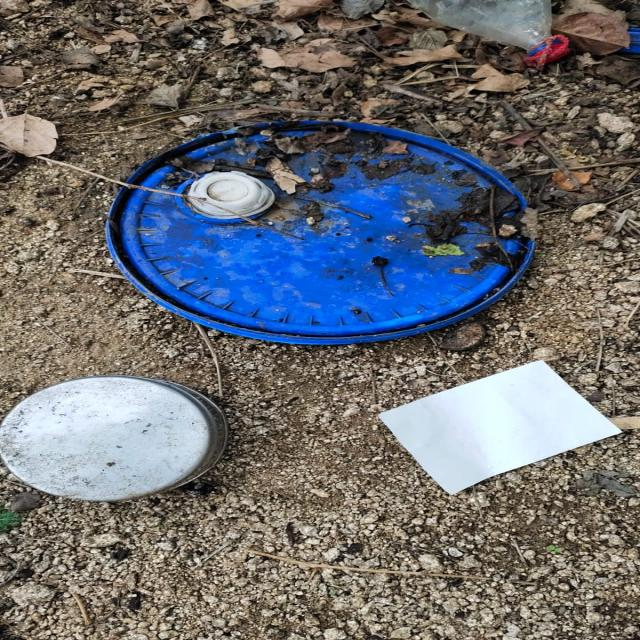metal: (3, 364, 270, 498)
paper: (343, 363, 640, 499)
plastic: (110, 125, 554, 342)
